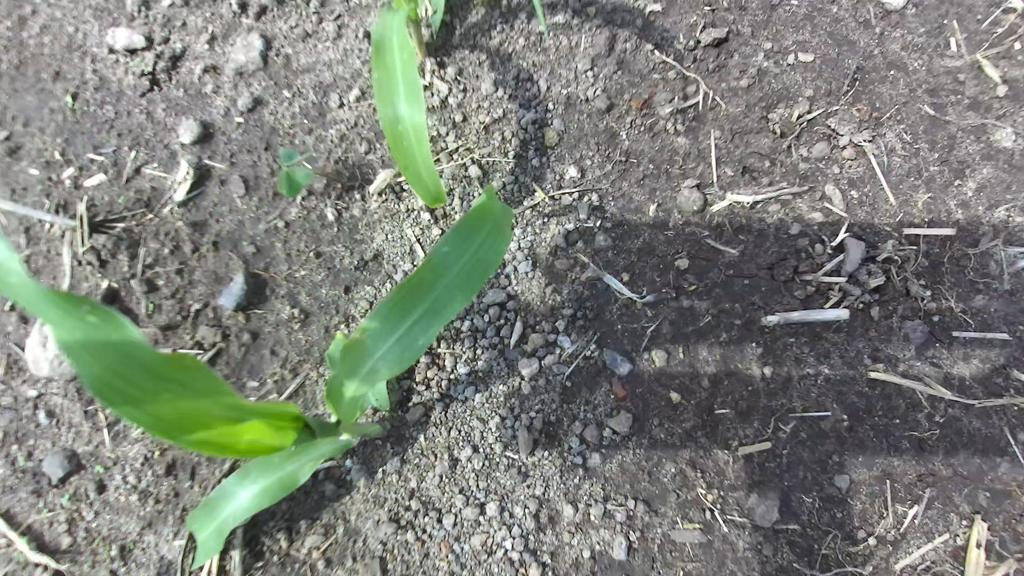BroWeed: (274, 148, 314, 196), (60, 85, 80, 112), (680, 519, 700, 533), (59, 492, 71, 507), (959, 528, 970, 543), (16, 454, 28, 467), (94, 463, 105, 474), (127, 540, 136, 550), (116, 194, 124, 205), (147, 302, 154, 314), (153, 451, 160, 460), (22, 535, 29, 542)
